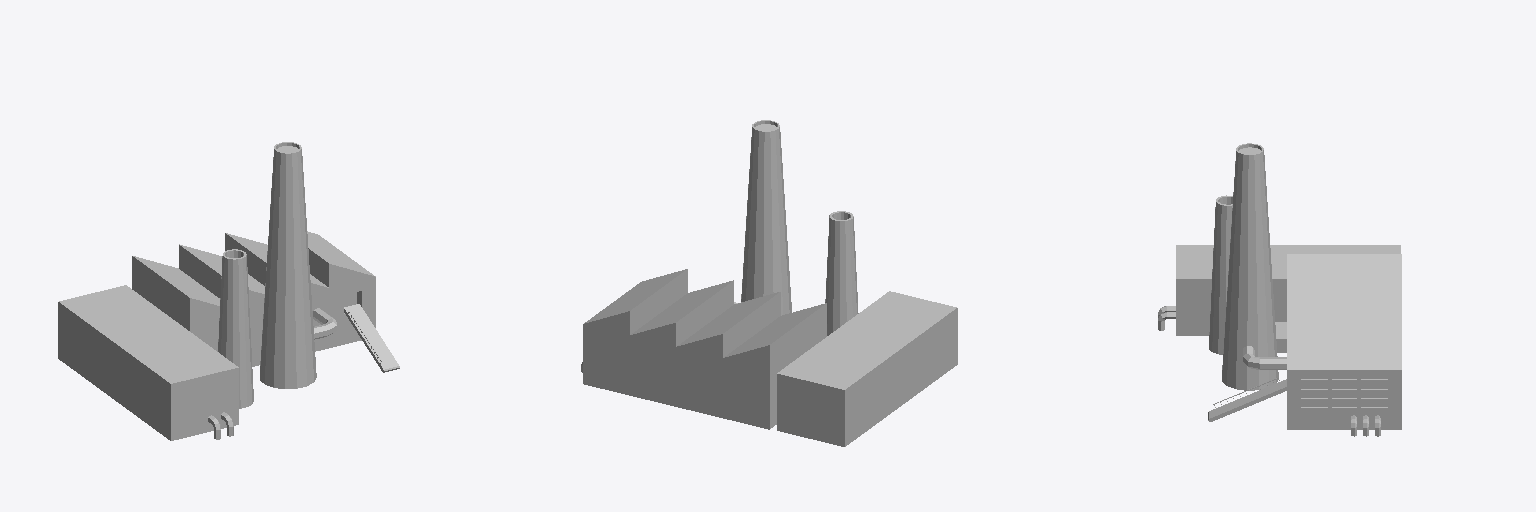
File: Factory.obj
3 renders of one model, left to right at view 1: azimuth 30°, elevation 25°; view 2: azimuth 150°, elevation 25°; view 3: azimuth 270°, elevation 25°, orthographic.
Parts seen in each view (by area): view 1: Cube_003; view 2: Cube_003; view 3: Cube_003.
Boxes of the visible parts, <box> form: Cube_003: <box>58,142,399,440</box>; Cube_003: <box>581,120,957,446</box>; Cube_003: <box>1158,143,1401,436</box>.
Bounding box in the file's own units: 3014 × 2413 × 2329.